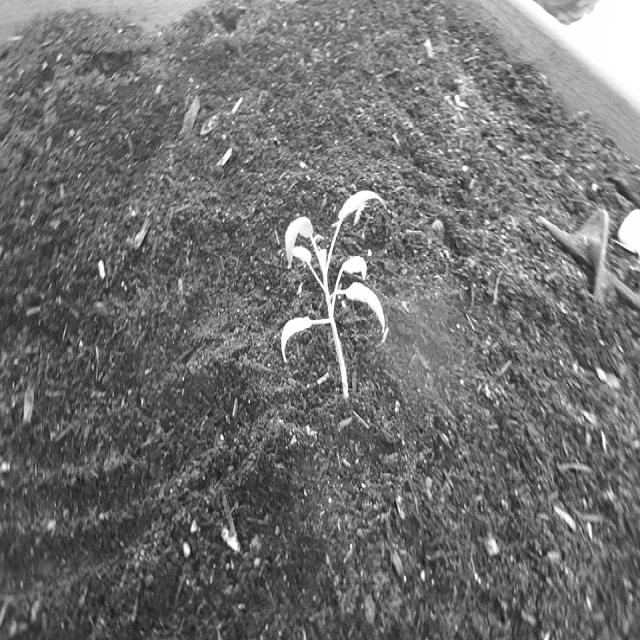Healthy: (271, 186, 392, 409)
